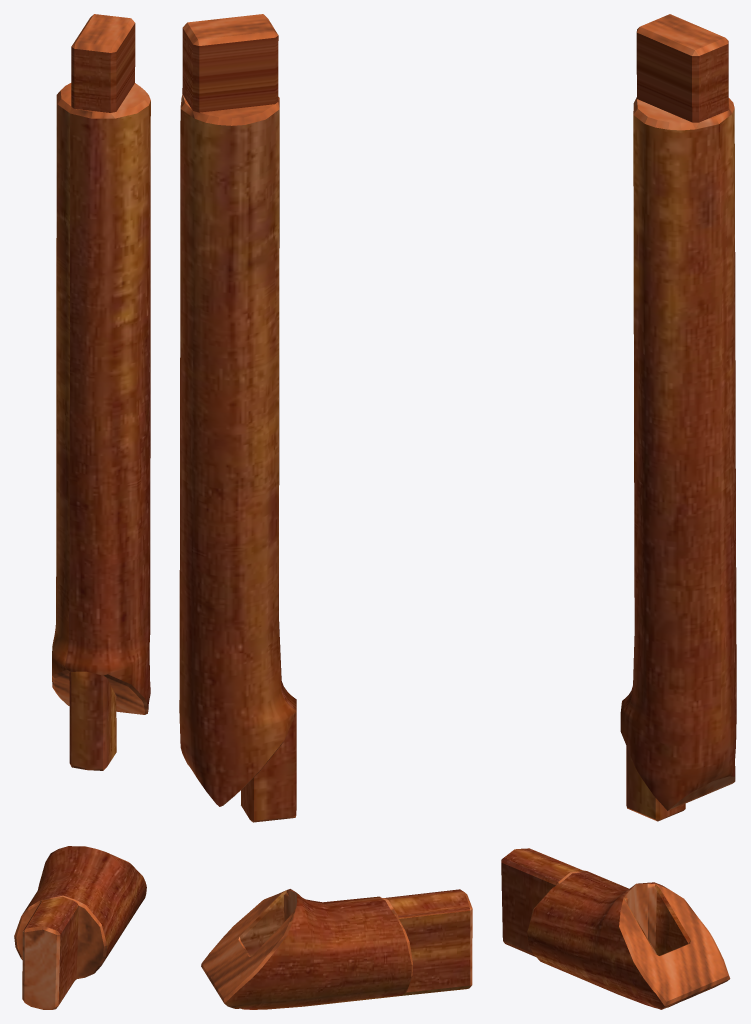
File: ytsy_J_shugan_018.FBX
3 renders of one model, left to right at view 1: azimuth 30°, elevation 25°; view 2: azimuth 150°, elevation 25°; view 3: azimuth 270°, elevation 25°, orthographic. The views are drawn at different scales.
Visible parts, largest first — view 1: ytsy_J_shugan_018, ytsy_J_henggan_018; view 2: ytsy_J_shugan_018, ytsy_J_henggan_018; view 3: ytsy_J_shugan_018, ytsy_J_henggan_018.
Part boxes in pixels (<box>): ytsy_J_shugan_018: <box>52,14,150,770</box>; ytsy_J_henggan_018: <box>14,846,146,1009</box>; ytsy_J_shugan_018: <box>179,14,296,822</box>; ytsy_J_henggan_018: <box>201,889,472,1009</box>; ytsy_J_shugan_018: <box>620,14,736,821</box>; ytsy_J_henggan_018: <box>501,848,730,1009</box>.
Bounding box in the file's own units: 4.58 × 20.51 × 4.45.
